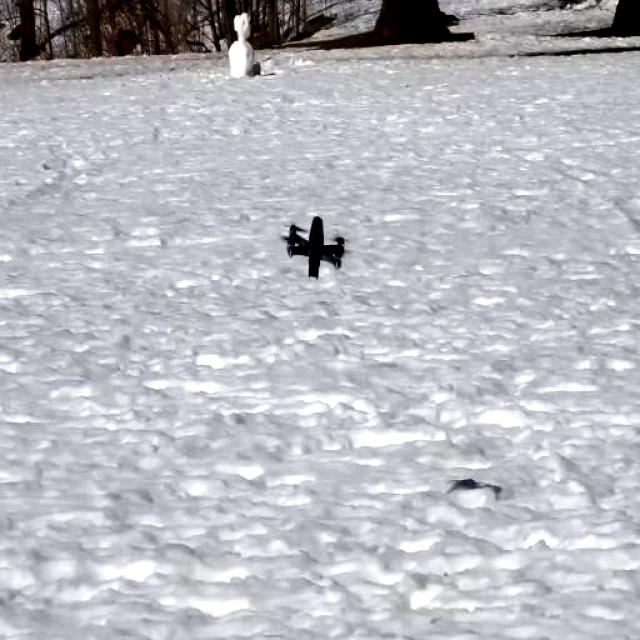bird: (278, 190, 354, 286)
